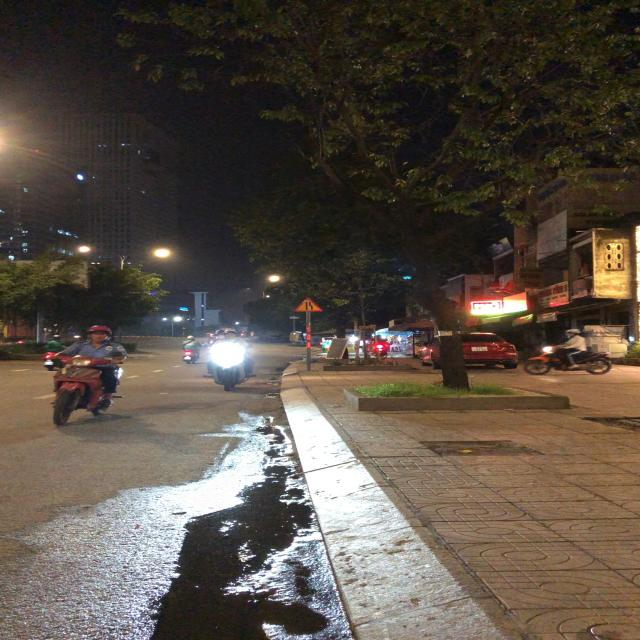Bien bao duong bi thu hep: (288, 296, 329, 314)
